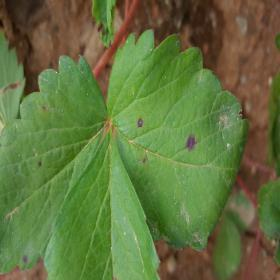Leaf Spot: (106, 28, 250, 251), (0, 53, 110, 275), (91, 0, 117, 50)
